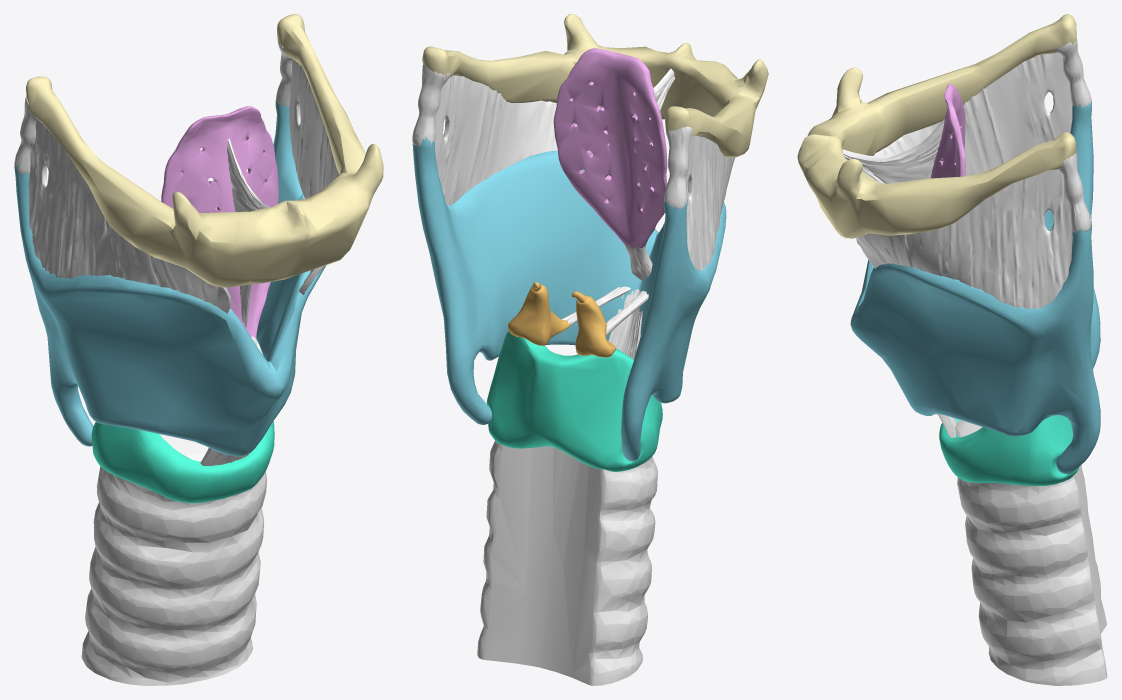
File: Larynx.glb
3 views of the same model, side by side, from view 1: azimuth 30°, elevation 25°; view 2: azimuth 150°, elevation 25°; view 3: azimuth 270°, elevation 25° (orthographic). The views are drawn at different scales.
Visible parts, largest first — view 1: Thryoid_cartilage, Trachea, Hyoid, Right_Thyroid_Membrane, Epoglottis, Cricoid_cartilage, Left_Thyroid_Membrane, Hyoepiglottic_Ligament, Right_Thyroid_Ligament, Left_Thyroid_Ligament; view 2: Thryoid_cartilage, Trachea, Epoglottis, Cricoid_cartilage, Hyoid, Left_Thyroid_Membrane, Right_Thyroid_Membrane, Left_Arytenoid_cartilage, Right_Thyroid_Ligament, Right_Arytenoid_cartilage, Left_Thyroid_Ligament, Median_Cricothyroid_Ligament (+1 smaller); view 3: Thryoid_cartilage, Trachea, Hyoid, Left_Thyroid_Membrane, Right_Thyroid_Membrane, Cricoid_cartilage, Hyoepiglottic_Ligament, Epoglottis, Left_Thyroid_Ligament, Right_Thyroid_Ligament.
Boxes of the visible parts, x1,y1,x2,y2 form: Thryoid_cartilage: (14,100,326,456); Trachea: (81,434,266,685); Hyoid: (26,14,383,287); Right_Thyroid_Membrane: (18,119,231,313); Epoglottis: (161,106,278,338); Cricoid_cartilage: (91,421,274,503); Left_Thyroid_Membrane: (289,59,339,294); Hyoepiglottic_Ligament: (227,139,269,327); Right_Thyroid_Ligament: (14,95,37,174); Left_Thyroid_Ligament: (276,40,292,106); Thryoid_cartilage: (412,135,726,461); Trachea: (477,441,657,685); Epoglottis: (553,48,667,254); Cricoid_cartilage: (486,331,662,471); Hyoid: (422,14,768,157); Left_Thyroid_Membrane: (435,75,574,205); Right_Thyroid_Membrane: (682,135,734,270); Left_Arytenoid_cartilage: (508,284,571,345); Right_Thyroid_Ligament: (664,126,692,208); Right_Arytenoid_cartilage: (575,296,615,357); Left_Thyroid_Ligament: (412,64,449,146); Median_Cricothyroid_Ligament: (608,289,646,359); Thryoid_cartilage: (850,102,1100,474); Trachea: (955,419,1107,685); Hyoid: (797,14,1076,238); Left_Thyroid_Membrane: (856,169,1072,309); Right_Thyroid_Membrane: (874,53,1072,175); Cricoid_cartilage: (939,415,1078,485); Hyoepiglottic_Ligament: (842,119,944,183); Epoglottis: (931,84,965,178); Left_Thyroid_Ligament: (1058,153,1091,233); Right_Thyroid_Ligament: (1056,40,1091,107).
Size of the model in its own units: 0.3866 by 0.7853 by 0.3836.
